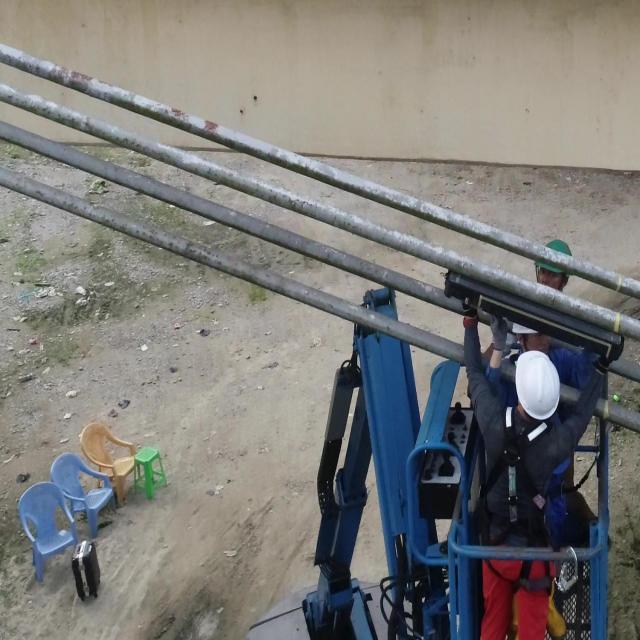corrosion: (70, 72, 92, 93), (52, 64, 68, 81), (171, 107, 186, 125), (204, 121, 217, 134)
